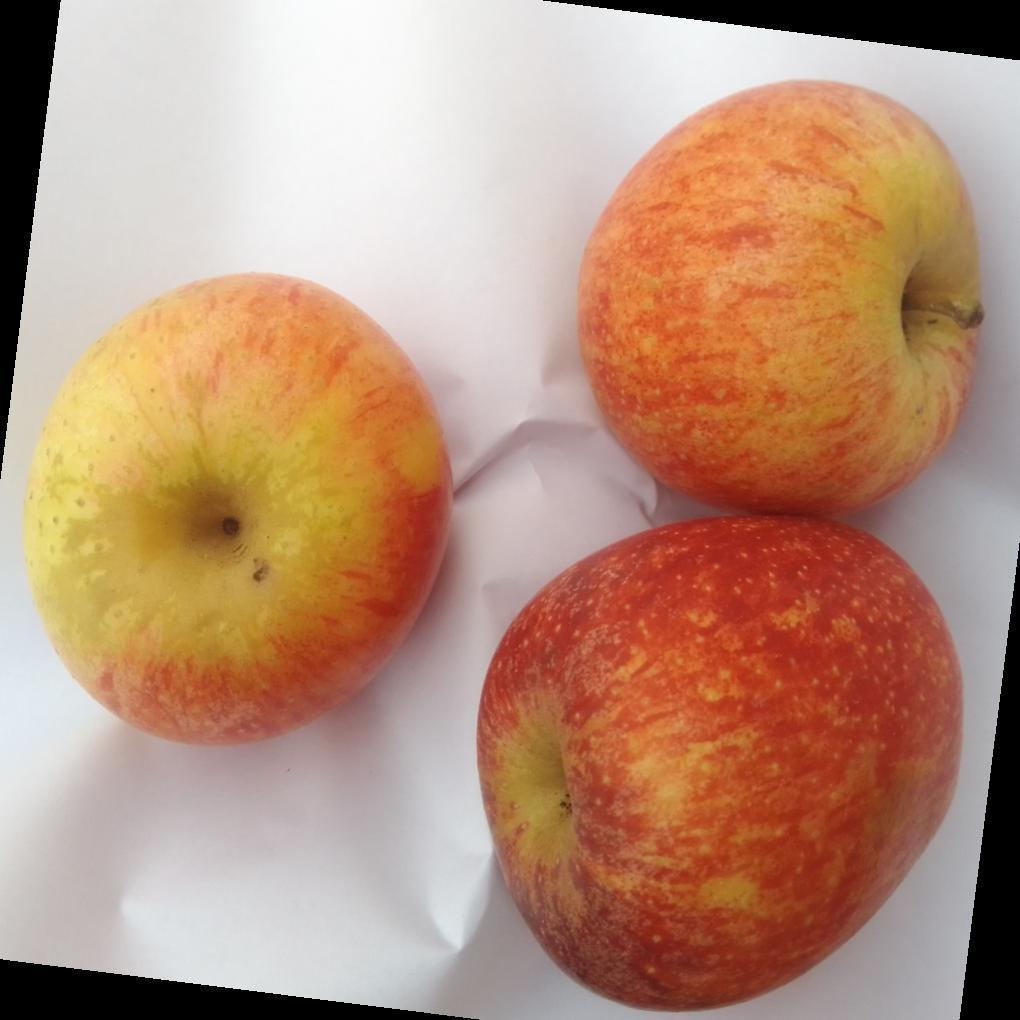FreshGuava: (476, 81, 987, 1016), (22, 275, 452, 750)
